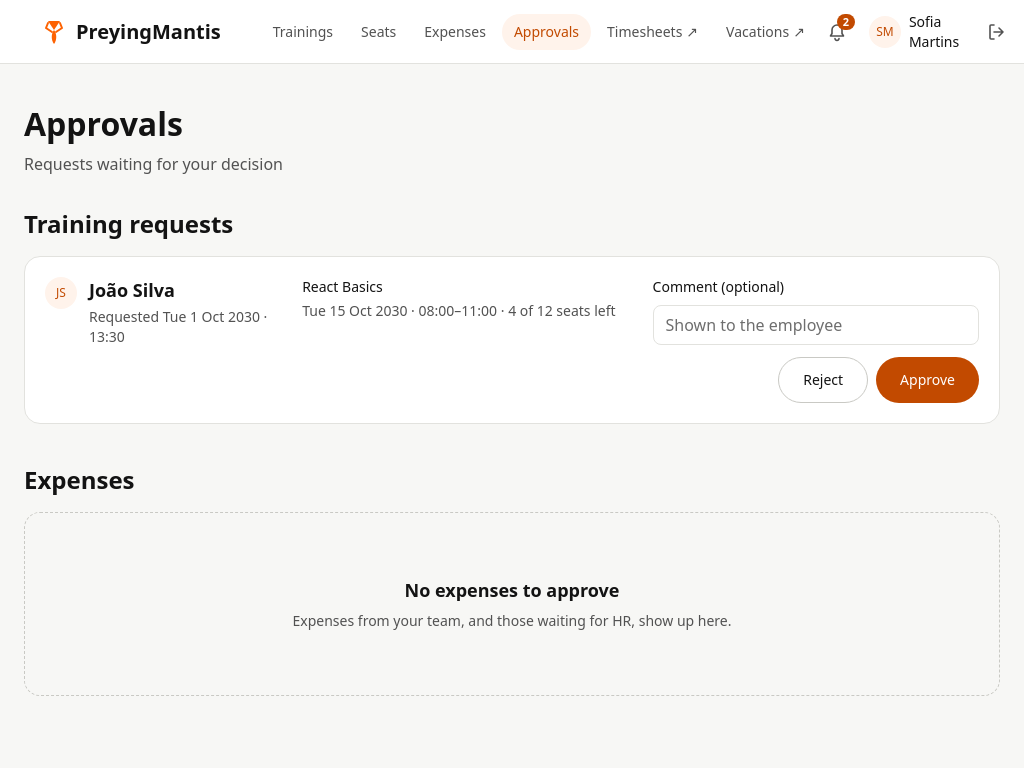
it: approvals › keeps the row and says why when the training is full
The width and height of the screenshot is (1024, 768).
Click the button "Approve": (928, 380) [876, 357, 979, 403]
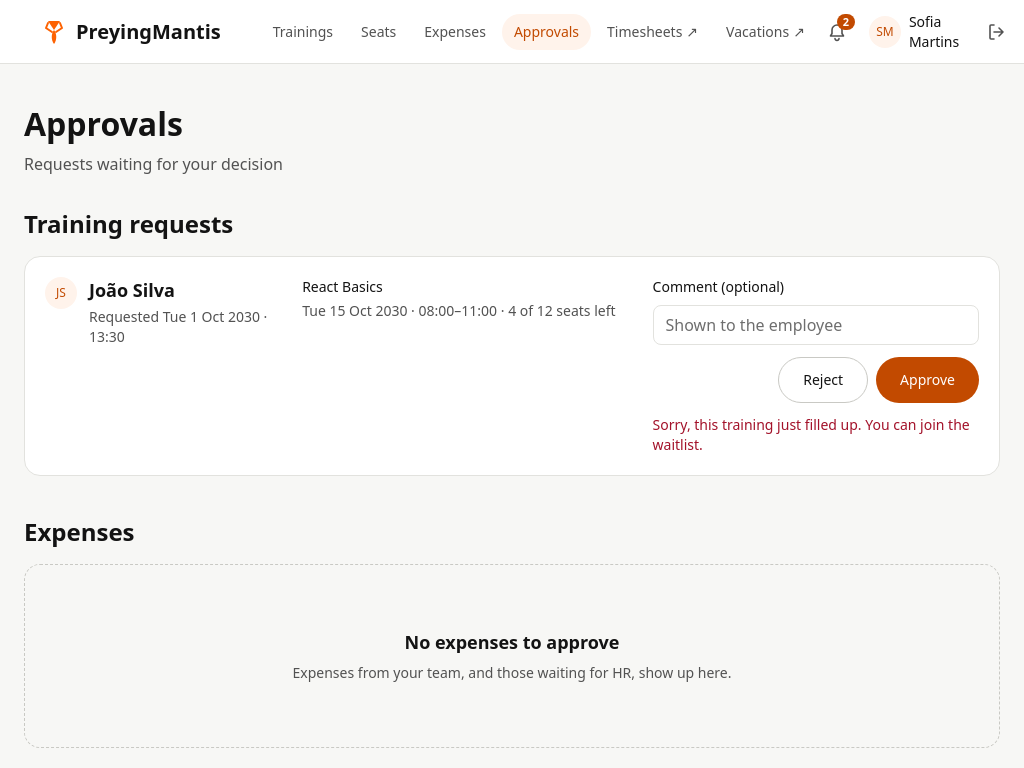
expect the element "João Silva" is shown: met, box [24, 256, 1000, 476]
expect the message shows "Sorry, this training just filled up.": met, box [653, 415, 970, 454]
